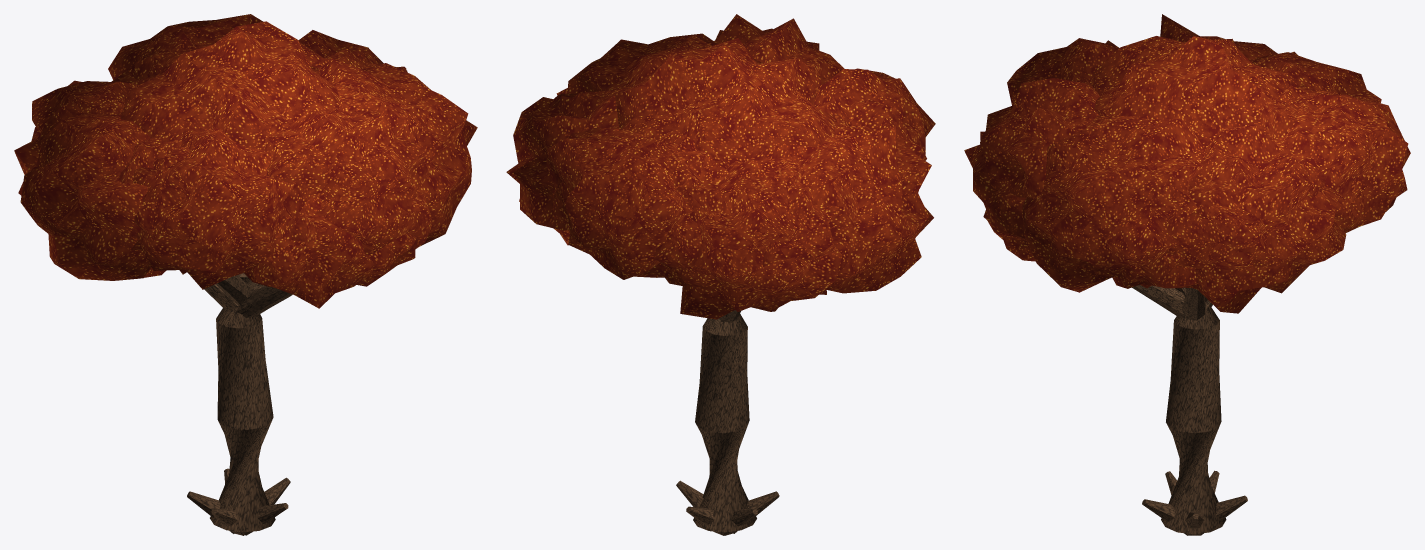
Rendered from maple.gltf.
3 renders of one model, left to right at view 1: azimuth 30°, elevation 25°; view 2: azimuth 150°, elevation 25°; view 3: azimuth 270°, elevation 25°, orthographic. The views are drawn at different scales.
Visible parts, largest first — view 1: MapleMesh; view 2: MapleMesh; view 3: MapleMesh.
Part boxes in pixels (<box>): MapleMesh: <box>14,14,477,535</box>; MapleMesh: <box>506,14,935,535</box>; MapleMesh: <box>964,14,1410,535</box>.
Size of the model in its own units: 4.25 by 4.99 by 4.08.
2 materials, 2 textured.
